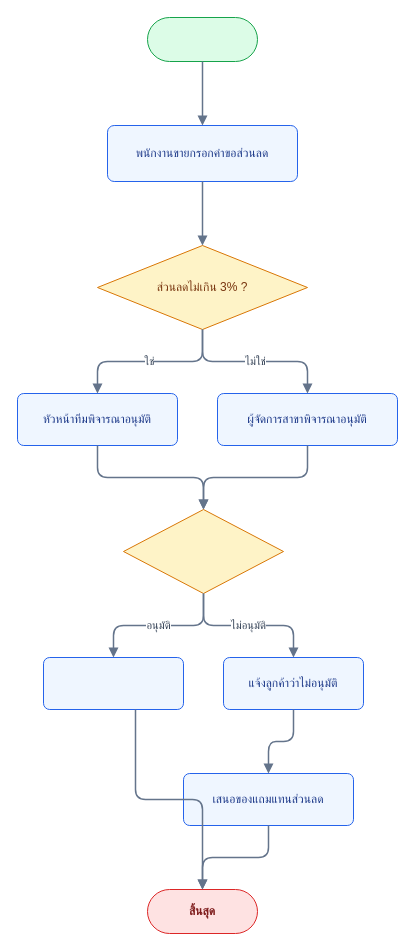
Image size: 415x951. Some labels were removed from this diagram. The shapes that lost their labels are listed below. From the top down, each one's centre as x and y in pixels, then its label:
At pixel 202 39: "เริ่มต้น".
At pixel 203 551: "อนุมัติหรือไม่ ?".
At pixel 113 683: "ให้ส่วนลดตามที่อนุมัติ".
